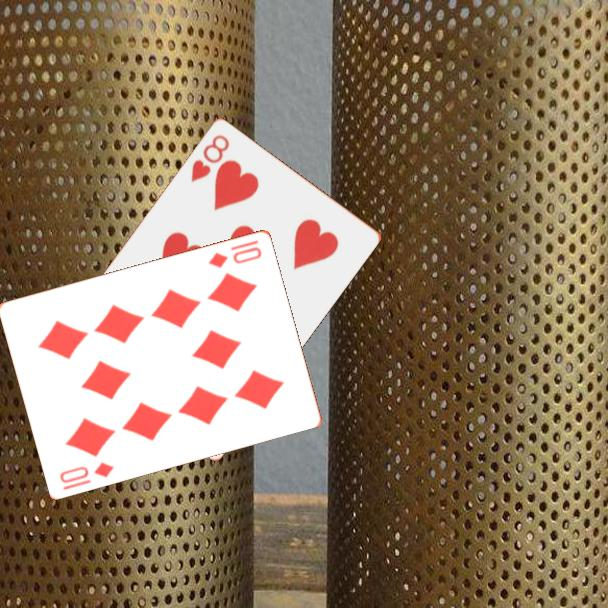d10: (56, 458, 117, 493), (205, 243, 265, 270)
h08: (187, 131, 232, 184)
